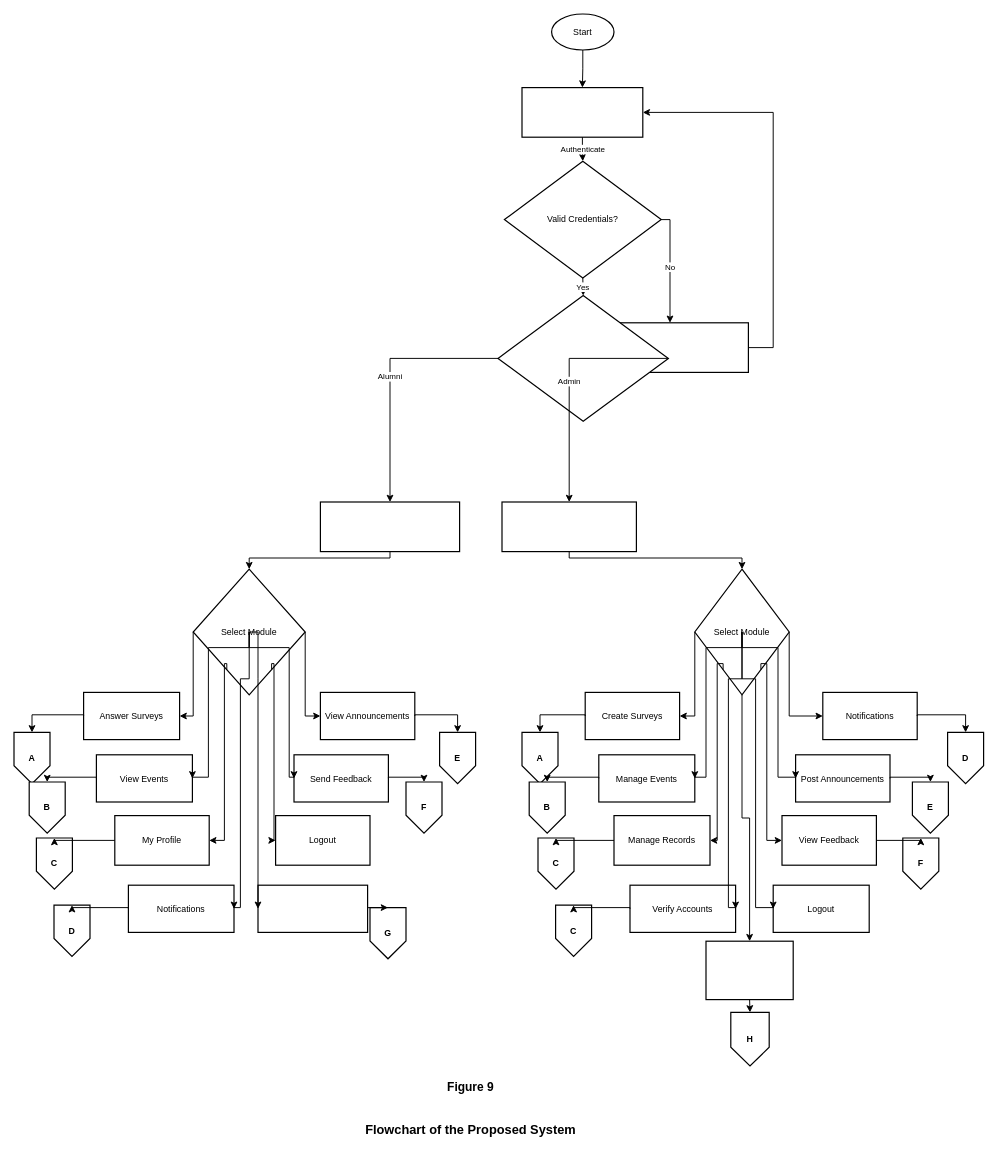
This 998x1166 diagram has some shape labels left out. The shapes that lost their labels are listed below. From the top down, each one's box as (x1, y1, x2, y2) in pixels, then its label:
(521, 87, 643, 137): Login Page
(497, 295, 669, 421): Check User Role
(591, 322, 749, 373): Show Error Message
(319, 501, 460, 552): Alumni Dashboard
(501, 501, 637, 552): Admin Dashboard
(257, 884, 368, 933): View Career
(705, 940, 793, 1000): View Analytics
